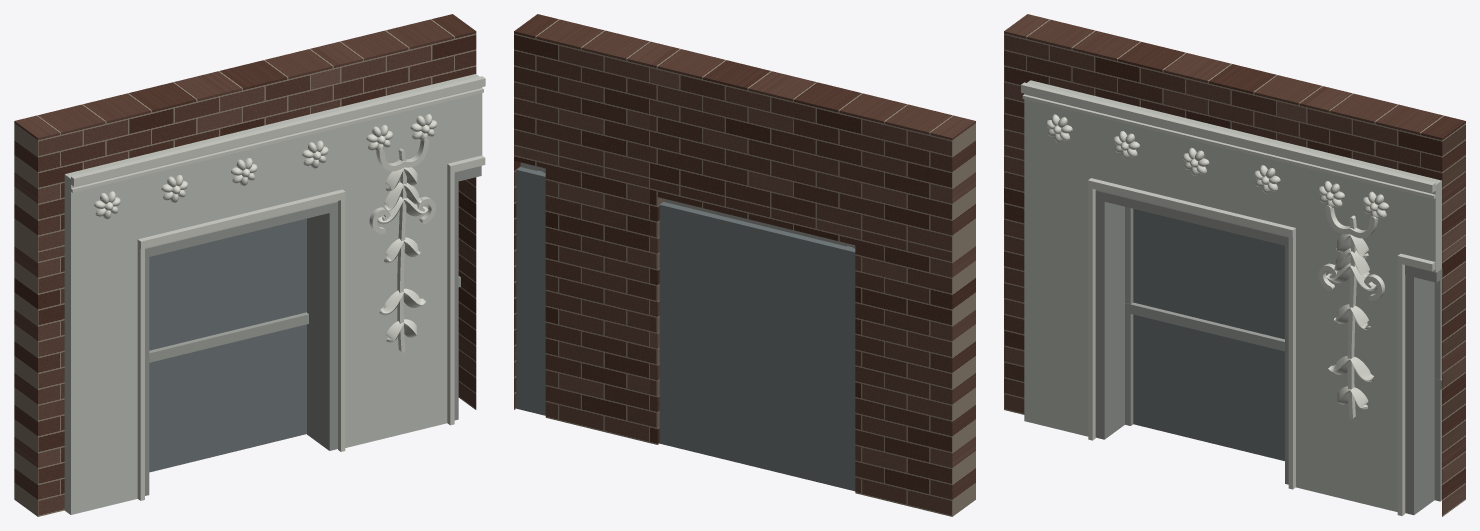
File: xiangyang-351-355-floral-window-surround-near.glb
The picture shows the model from 3 angles, left to right: view 1: azimuth 30°, elevation 25°; view 2: azimuth 150°, elevation 25°; view 3: azimuth 330°, elevation 25°; orthographic projection.
Parts seen in each view (by area): view 1: 襄阳南路351至355号街面窗框花饰与垂叶; view 2: 襄阳南路351至355号街面窗框花饰与垂叶; view 3: 襄阳南路351至355号街面窗框花饰与垂叶.
Part boxes in pixels (box(x1,y1,x2,y2)): 襄阳南路351至355号街面窗框花饰与垂叶: box(14, 14, 485, 516); 襄阳南路351至355号街面窗框花饰与垂叶: box(514, 14, 975, 516); 襄阳南路351至355号街面窗框花饰与垂叶: box(1004, 14, 1465, 516).
Size of the model in its own units: 2.08 by 1.72 by 0.289.
Materials: 8 (1 with a texture image).
